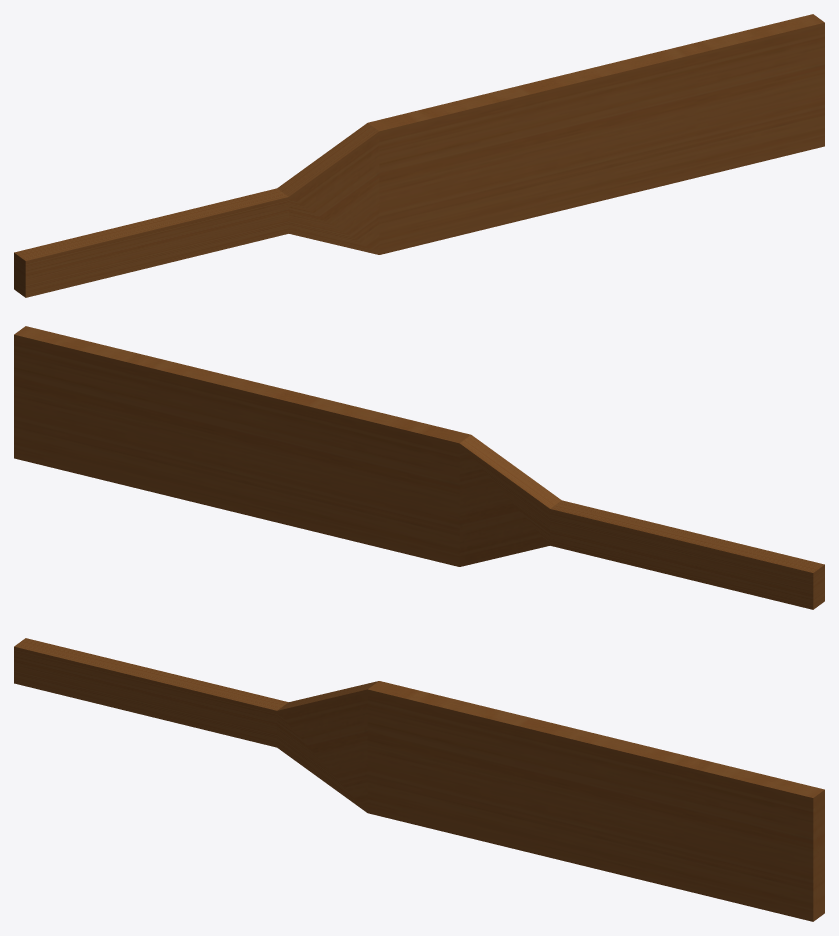
File: paddle.fbx
3 renders of one model, top to bottom at view 1: azimuth 30°, elevation 25°; view 2: azimuth 150°, elevation 25°; view 3: azimuth 330°, elevation 25°, orthographic.
Visible parts, largest first — view 1: Cube.225; view 2: Cube.225; view 3: Cube.225.
Boxes of the visible parts, box(x1,y1,x2,y2) form: Cube.225: box(14, 14, 824, 297); Cube.225: box(14, 326, 824, 609); Cube.225: box(14, 638, 824, 921).
Bounding box in the file's own units: 134 × 19.76 × 3.4.
